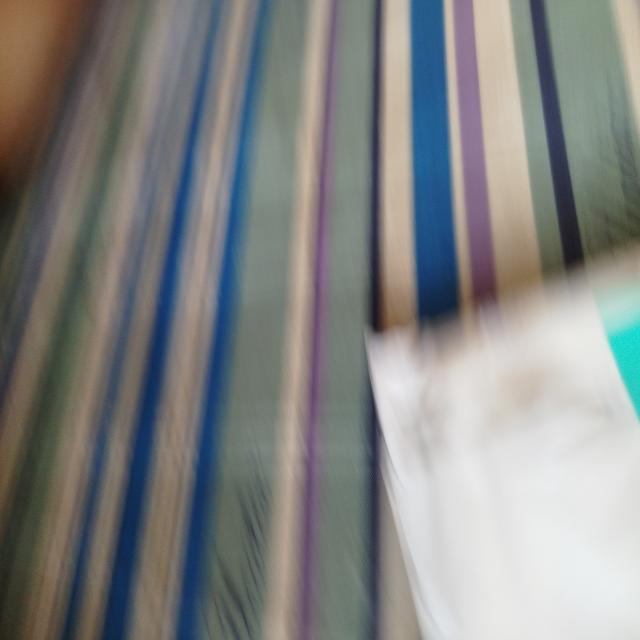residual: (349, 275, 640, 640)
